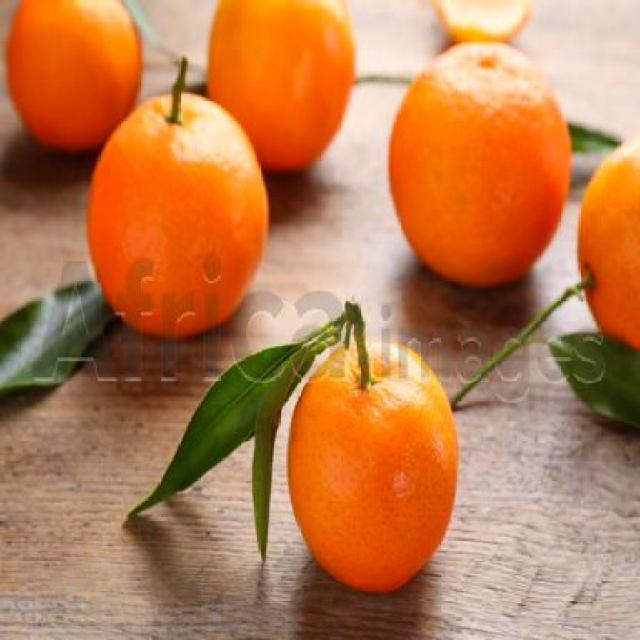Jeruk Sudah Matang: (389, 39, 571, 287), (94, 90, 268, 327), (292, 343, 458, 579), (206, 0, 352, 180), (8, 0, 137, 163), (578, 129, 640, 362)
